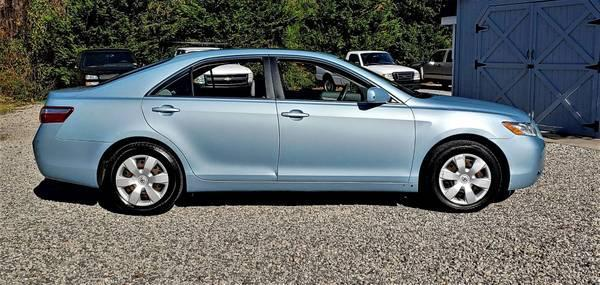Front_Bumper: (491, 135, 547, 189)
Front_Fender: (408, 105, 522, 193)
Front_Right_Door: (276, 102, 413, 192)
Front_Right_Window: (274, 56, 408, 106)
Rear_Bumper: (34, 121, 113, 187)
Rear_Fender: (46, 95, 154, 142)
Rear_Right_Door: (142, 98, 278, 191)
Rear_Right_Window: (148, 54, 278, 101)
Right_Headlight: (506, 122, 542, 137)
Right_Taillight: (39, 105, 76, 125)
Roof: (56, 44, 422, 105)
Wheel: (427, 140, 503, 217), (103, 140, 183, 211)
